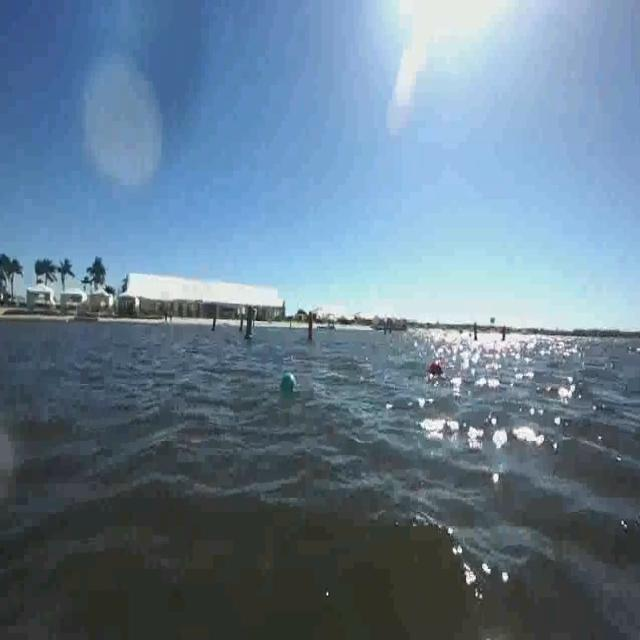green-buoy: (281, 374, 295, 394)
green-column-buoy: (242, 309, 252, 342)
red-column-buoy: (305, 308, 315, 341), (429, 357, 444, 378)
